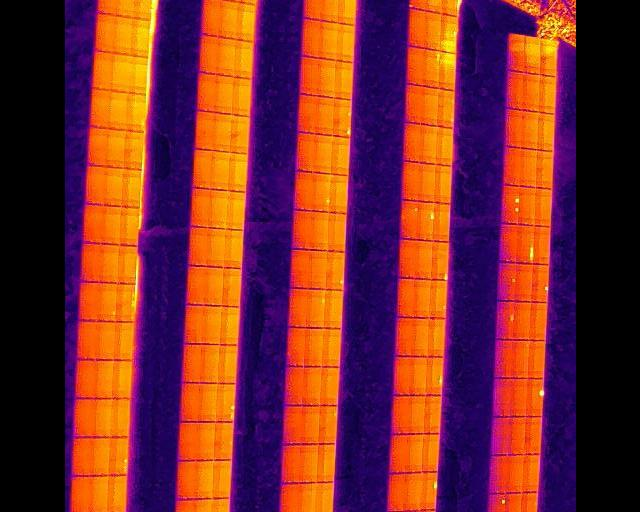Cell: (325, 251, 344, 289), (419, 472, 437, 511), (97, 283, 115, 322), (525, 379, 543, 416), (311, 174, 329, 211), (495, 302, 513, 339), (426, 357, 443, 395), (429, 280, 446, 317), (531, 265, 548, 302), (498, 263, 515, 300), (416, 203, 433, 239), (431, 243, 447, 281), (487, 493, 505, 512)
Cell-Multi: (109, 437, 129, 476), (215, 384, 235, 422), (333, 99, 351, 136), (501, 187, 519, 223)
No-Anomaly: (216, 345, 237, 384), (175, 461, 196, 500), (94, 12, 114, 52), (287, 289, 308, 327), (219, 307, 240, 345), (72, 399, 93, 437), (289, 249, 309, 288), (185, 266, 205, 305), (180, 383, 200, 422), (177, 421, 197, 460), (319, 367, 339, 406), (113, 322, 133, 361), (109, 399, 129, 438), (80, 243, 100, 282), (76, 320, 96, 359), (75, 360, 95, 399), (72, 437, 92, 476), (201, 306, 221, 344), (187, 228, 207, 266), (183, 305, 203, 343), (301, 20, 321, 58), (77, 283, 97, 321), (70, 476, 91, 512), (285, 328, 304, 367), (282, 405, 301, 444), (229, 114, 248, 153), (195, 112, 214, 151), (391, 396, 410, 435), (388, 434, 407, 473), (302, 367, 321, 406), (121, 169, 140, 208), (109, 91, 128, 130), (103, 167, 122, 206), (226, 154, 246, 191), (224, 192, 244, 229), (190, 189, 210, 226), (128, 19, 148, 56), (92, 52, 112, 89), (215, 39, 236, 74), (284, 367, 303, 405), (223, 230, 242, 268), (214, 422, 233, 460), (212, 460, 231, 498), (207, 190, 226, 228), (200, 344, 219, 382), (192, 150, 211, 188), (387, 474, 406, 512), (330, 137, 349, 175), (326, 213, 345, 251), (323, 290, 342, 328), (315, 444, 334, 482), (309, 212, 328, 250), (303, 328, 322, 366), (111, 53, 130, 91), (111, 361, 130, 399), (95, 322, 114, 360), (82, 205, 101, 243), (231, 78, 251, 114), (90, 89, 108, 129), (213, 76, 232, 113), (210, 152, 229, 189), (318, 406, 337, 443), (499, 225, 518, 262), (182, 344, 200, 383), (405, 434, 423, 473), (321, 328, 339, 367), (312, 135, 330, 174), (306, 289, 324, 328), (493, 378, 511, 417), (490, 417, 508, 456), (234, 41, 253, 77), (223, 268, 241, 306), (204, 267, 222, 305), (197, 422, 215, 460), (528, 303, 546, 341), (128, 57, 147, 93), (394, 318, 412, 356), (336, 24, 354, 62), (318, 22, 336, 60), (299, 57, 318, 93), (299, 444, 317, 482), (297, 95, 315, 133), (123, 132, 142, 168), (119, 207, 137, 245), (117, 246, 135, 284), (521, 455, 539, 493), (114, 284, 132, 322), (107, 476, 126, 512), (101, 206, 119, 244), (99, 244, 117, 282), (94, 360, 112, 398), (93, 399, 111, 437), (91, 438, 109, 476), (507, 417, 525, 455), (505, 71, 523, 109), (504, 455, 522, 493), (504, 111, 523, 147), (434, 127, 452, 164), (212, 113, 230, 150), (197, 74, 215, 111), (196, 461, 214, 498), (412, 280, 430, 317), (329, 175, 347, 212), (218, 2, 237, 37), (199, 37, 218, 72), (106, 131, 125, 166), (293, 172, 310, 211), (292, 210, 309, 249), (404, 472, 421, 511), (393, 356, 410, 395), (309, 250, 326, 289), (295, 133, 312, 172), (86, 166, 103, 205), (437, 53, 455, 89), (236, 4, 254, 40), (405, 86, 423, 122), (398, 241, 416, 277), (316, 98, 334, 134), (90, 476, 108, 512), (88, 129, 106, 165), (428, 319, 445, 357), (282, 445, 299, 483), (533, 227, 550, 265), (207, 229, 224, 267), (199, 384, 216, 422), (527, 341, 544, 379), (524, 417, 541, 455), (489, 455, 506, 493), (423, 395, 440, 433), (412, 318, 429, 356), (334, 62, 351, 100), (302, 406, 319, 444), (127, 93, 144, 131), (513, 302, 530, 340), (494, 340, 511, 378), (407, 10, 425, 45), (402, 125, 420, 160), (506, 35, 524, 70), (421, 434, 438, 471), (409, 357, 426, 394), (397, 279, 414, 316), (317, 59, 334, 96), (114, 16, 131, 53), (522, 74, 539, 111), (511, 341, 528, 378), (202, 0, 221, 33), (440, 16, 457, 52), (432, 204, 449, 240), (537, 114, 554, 150), (535, 151, 552, 187), (400, 202, 417, 238), (519, 150, 536, 186), (518, 188, 535, 224), (514, 265, 531, 301), (503, 148, 520, 184), (436, 91, 453, 126), (433, 167, 450, 202), (538, 77, 555, 112), (414, 242, 431, 277), (406, 48, 423, 83), (402, 164, 419, 199), (521, 113, 538, 148), (278, 483, 298, 512), (423, 13, 440, 47), (422, 51, 439, 85), (534, 190, 550, 226), (418, 126, 434, 162), (511, 378, 526, 416), (418, 165, 434, 200), (523, 38, 539, 73), (409, 396, 424, 433), (540, 41, 556, 75), (315, 482, 333, 512), (298, 483, 315, 512), (423, 88, 437, 122), (338, 0, 356, 22), (321, 0, 339, 21), (303, 0, 324, 18), (132, 0, 151, 18), (520, 492, 536, 512), (114, 0, 133, 16), (505, 494, 521, 512), (174, 499, 195, 512), (210, 498, 229, 512), (97, 0, 117, 13), (195, 498, 211, 512), (442, 0, 456, 14), (425, 0, 441, 11), (409, 0, 427, 7)
Unclassified: (516, 226, 534, 263)
